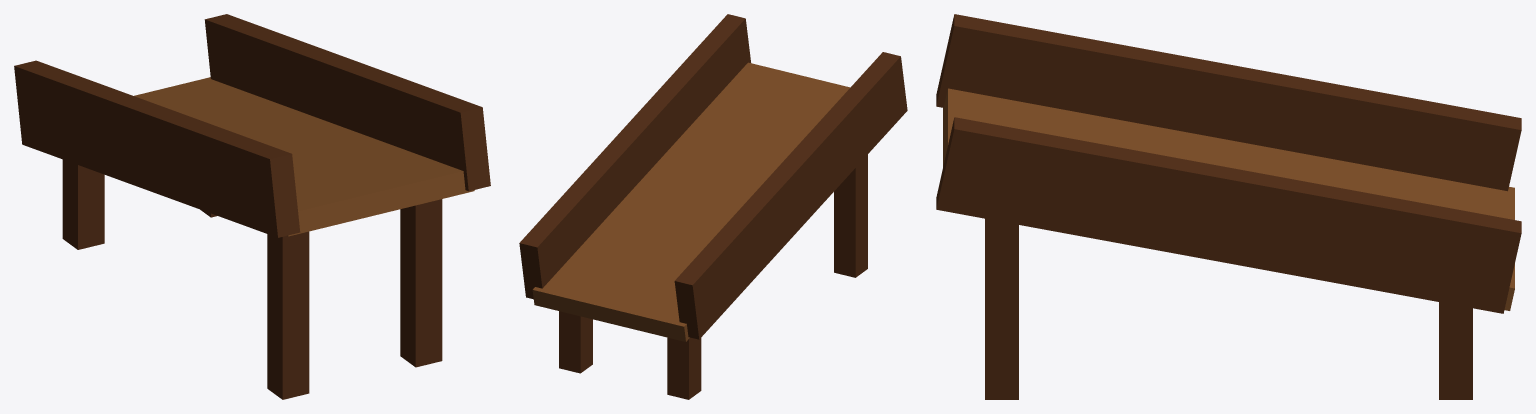
File: vf_gravity_trough.obj
The picture shows the model from 3 angles, left to right: view 1: azimuth 30°, elevation 25°; view 2: azimuth 150°, elevation 25°; view 3: azimuth 270°, elevation 25°; orthographic projection. The views are drawn at different scales.
Parts seen in each view (by area): view 1: Static_Oak, Static_OakLight; view 2: Static_Oak, Static_OakLight; view 3: Static_Oak, Static_OakLight.
Boxes of the visible parts, box(x1,y1,x2,y2) form: Static_Oak: box(14, 14, 490, 399); Static_OakLight: box(134, 77, 474, 236); Static_Oak: box(519, 14, 907, 399); Static_OakLight: box(532, 62, 850, 341); Static_Oak: box(936, 14, 1521, 399); Static_OakLight: box(943, 88, 1514, 310).
Bounding box in the file's own units: 0.96 × 1.11 × 2.06.
